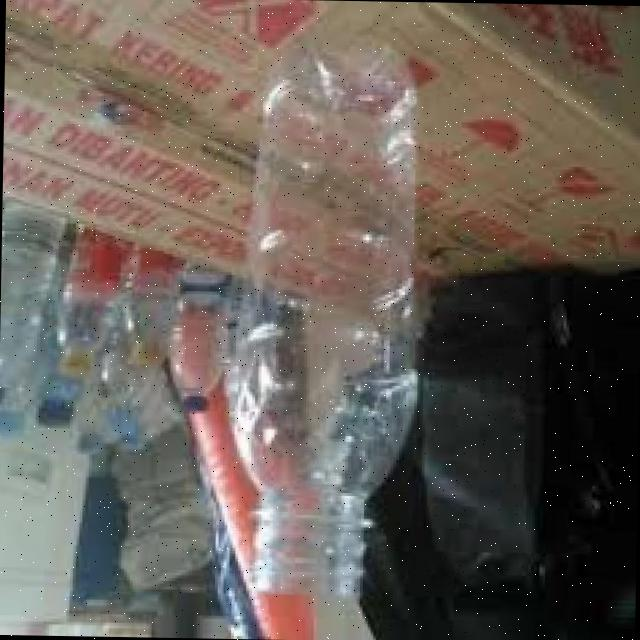bottle: (202, 55, 418, 606)
cap: (30, 396, 74, 428)
